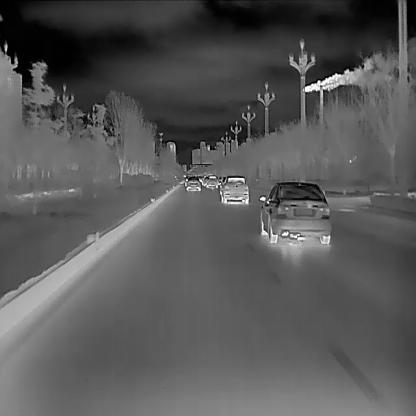car: (258, 182, 331, 244), (219, 176, 249, 203), (185, 175, 199, 191), (206, 175, 217, 187)
